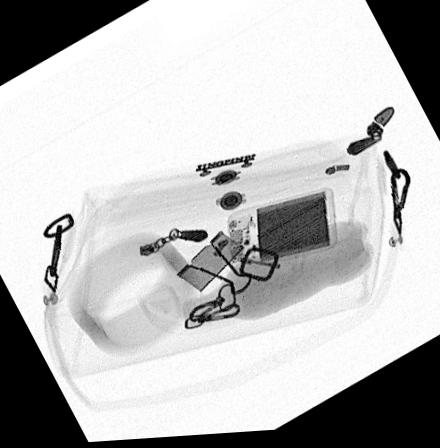Powerbank: (223, 189, 338, 275)
